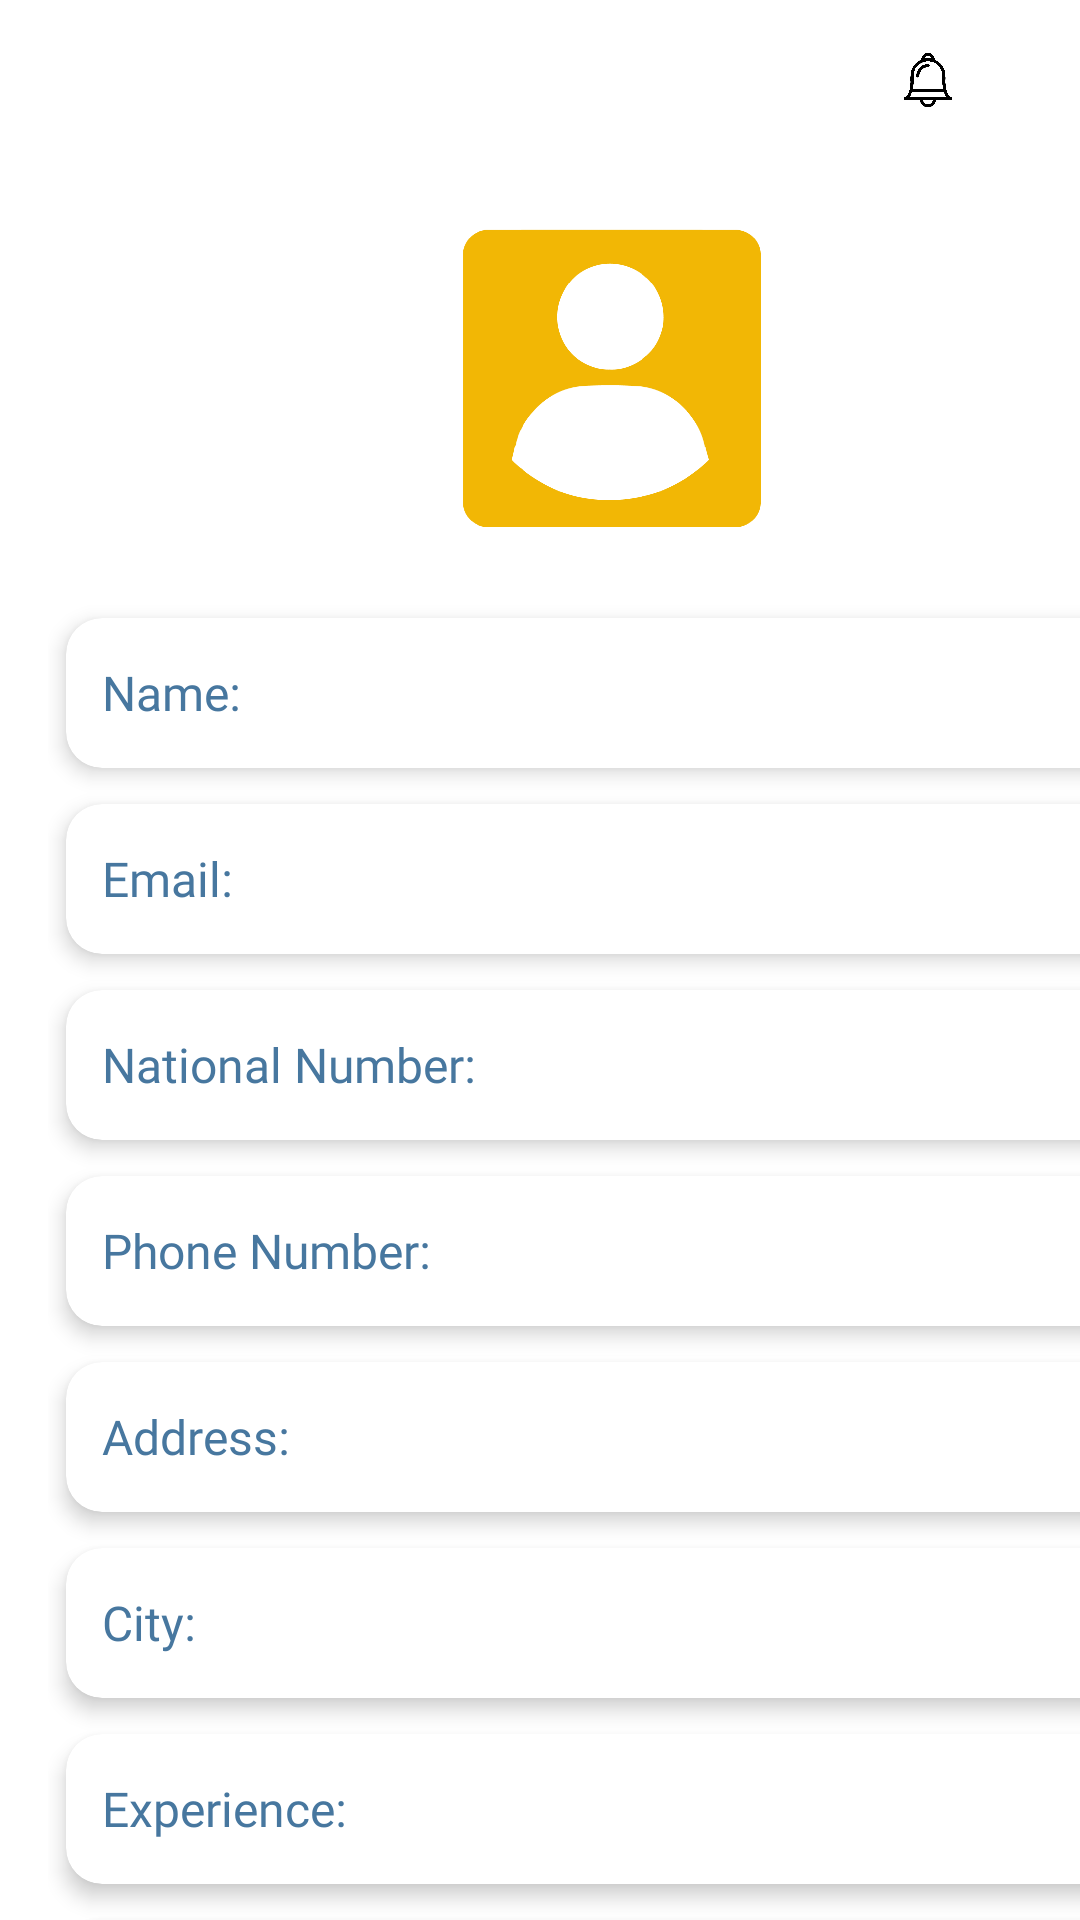

Where to tap for icons on this 1080×1920 app screen, as [x,y]:
bellicon: [928,80]
